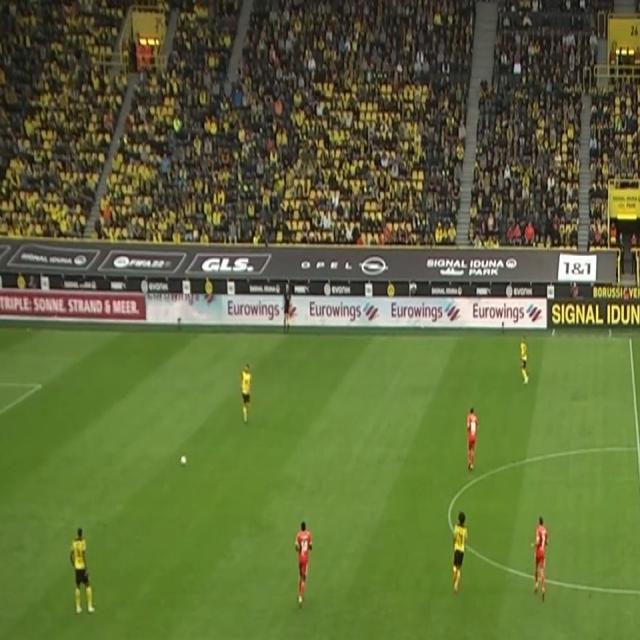ball: (180, 453, 188, 467)
